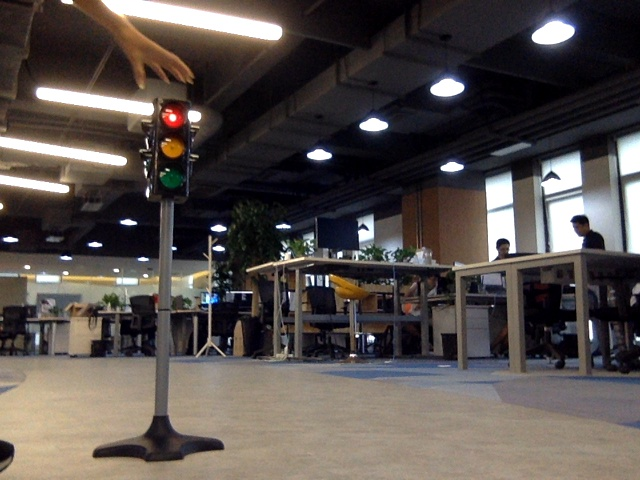red: (154, 107, 186, 189)
